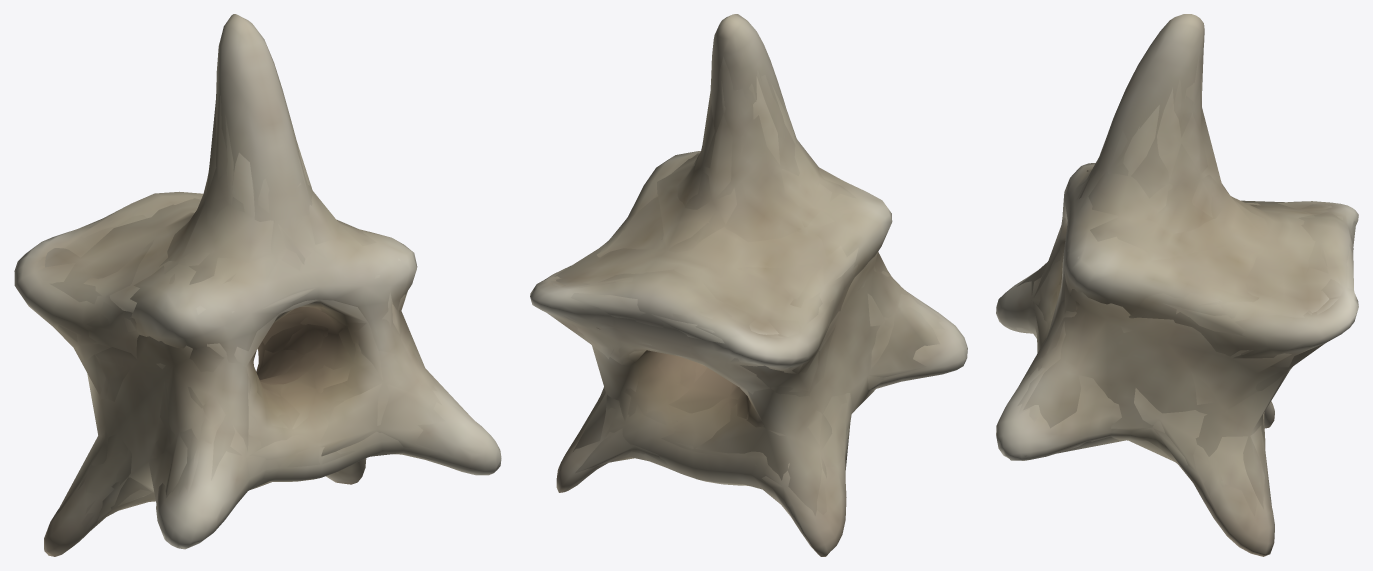
The model's file is vertebra cervicalis 3.fbx.
The picture shows the model from 3 angles, left to right: view 1: azimuth 30°, elevation 25°; view 2: azimuth 150°, elevation 25°; view 3: azimuth 270°, elevation 25°; orthographic projection. The views are drawn at different scales.
Visible parts, largest first — view 1: vertebra cervicalis 3 high, vertebra cervicalis 3 low, vertebra cervicalis 3; view 2: vertebra cervicalis 3 low, vertebra cervicalis 3 high, vertebra cervicalis 3; view 3: vertebra cervicalis 3 low, vertebra cervicalis 3 high, vertebra cervicalis 3.
Boxes of the visible parts, bbox=[...] form: vertebra cervicalis 3 high: bbox=[14, 14, 501, 556]; vertebra cervicalis 3 low: bbox=[45, 90, 472, 521]; vertebra cervicalis 3: bbox=[17, 42, 479, 541]; vertebra cervicalis 3 low: bbox=[547, 76, 939, 515]; vertebra cervicalis 3 high: bbox=[530, 14, 967, 556]; vertebra cervicalis 3: bbox=[550, 54, 965, 517]; vertebra cervicalis 3 low: bbox=[1017, 79, 1356, 508]; vertebra cervicalis 3 high: bbox=[996, 14, 1358, 556]; vertebra cervicalis 3: bbox=[1015, 51, 1352, 516].
Size of the model in its own units: 1.03 by 1.59 by 1.09.
Materials: 1 (1 with a texture image).
